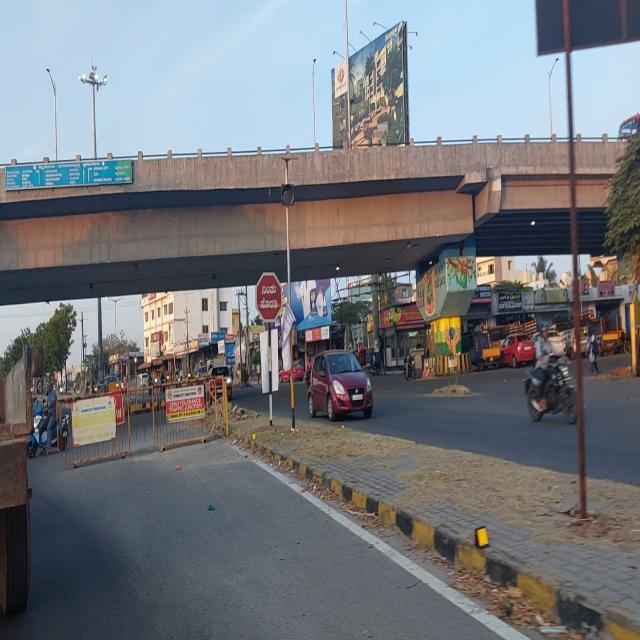bien_cam: (254, 268, 284, 322)
